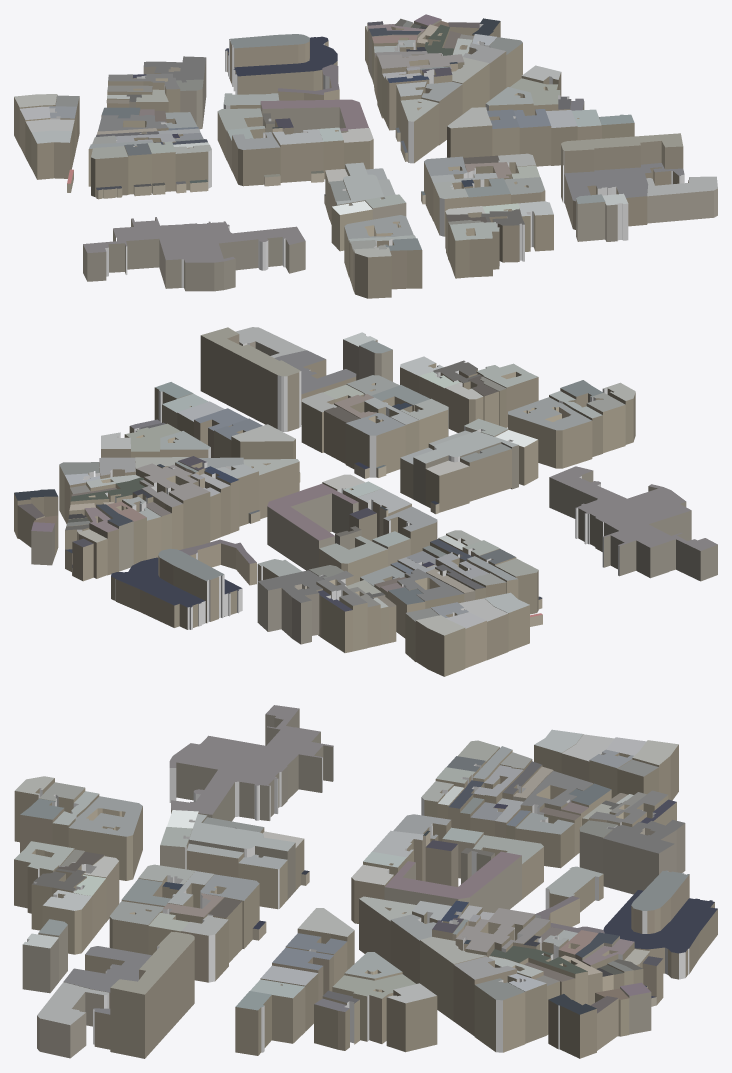
3 views of the same model, one above another, from view 1: azimuth 30°, elevation 25°; view 2: azimuth 150°, elevation 25°; view 3: azimuth 270°, elevation 25° (orthographic). The views are drawn at different scales.
Parts seen in each view (by area): view 1: tuile; view 2: tuile; view 3: tuile.
Part boxes in pixels (x1,y1,x2,y2): tuile: (14, 14, 717, 298); tuile: (14, 327, 717, 676); tuile: (14, 705, 717, 1058).
Size of the model in its own units: 307 by 29.75 by 281.
